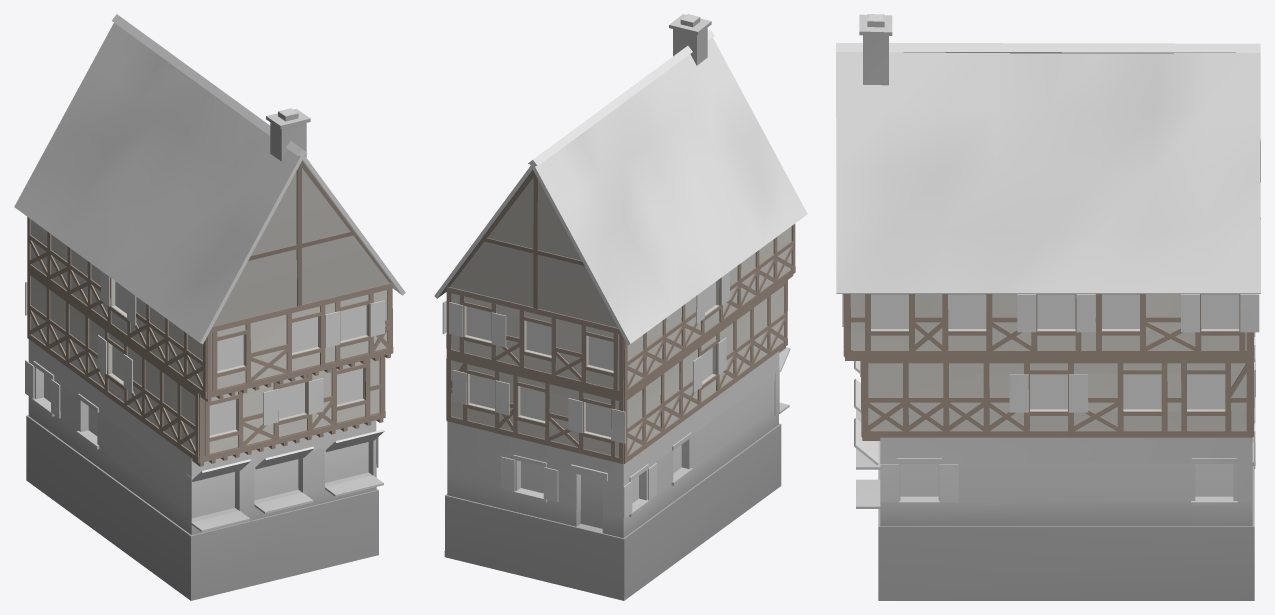
File: townhouse_0.glb
The picture shows the model from 3 angles, left to right: view 1: azimuth 30°, elevation 25°; view 2: azimuth 150°, elevation 25°; view 3: azimuth 270°, elevation 25°; orthographic projection. The views are drawn at different scales.
Parts seen in each view (by area): view 1: townhouse_0; view 2: townhouse_0; view 3: townhouse_0.
Boxes of the visible parts, left/top/right/bottom form: townhouse_0: left=14, top=14, right=405, bottom=600; townhouse_0: left=434, top=14, right=807, bottom=600; townhouse_0: left=836, top=14, right=1260, bottom=600.
Bounding box in the file's own units: 7.83 × 16.94 × 12.25.
